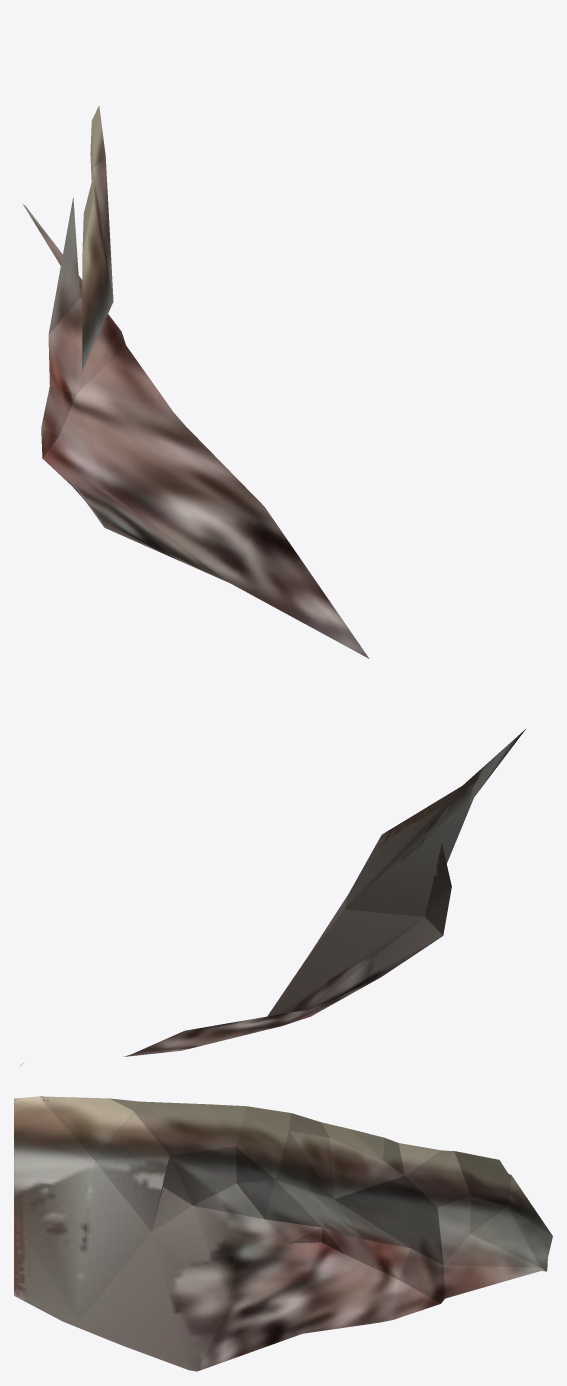
The picture shows the model from 3 angles, top to bottom: view 1: azimuth 30°, elevation 25°; view 2: azimuth 150°, elevation 25°; view 3: azimuth 270°, elevation 25°; orthographic projection. The views are drawn at different scales.
Bounding box in the file's own units: 0.3845 × 0.5776 × 1.33.
Materials: 1 (1 with a texture image).
